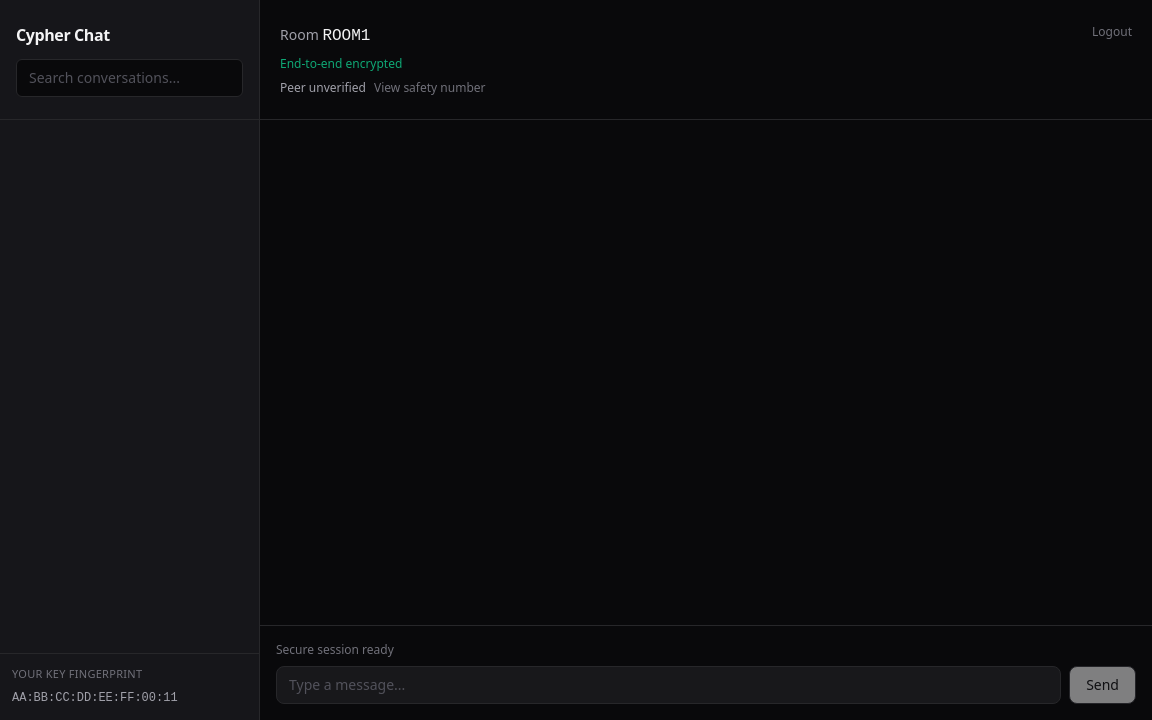
Test: ChatRoom integration › keeps accepted messages sent until a recipient delivery ack arrives
The width and height of the screenshot is (1152, 720).
Type "accepted only" into the field with placeholder "Type a message...".
click(669, 685); type("accepted only")  # box x1=276 y1=666 x2=1061 y2=704
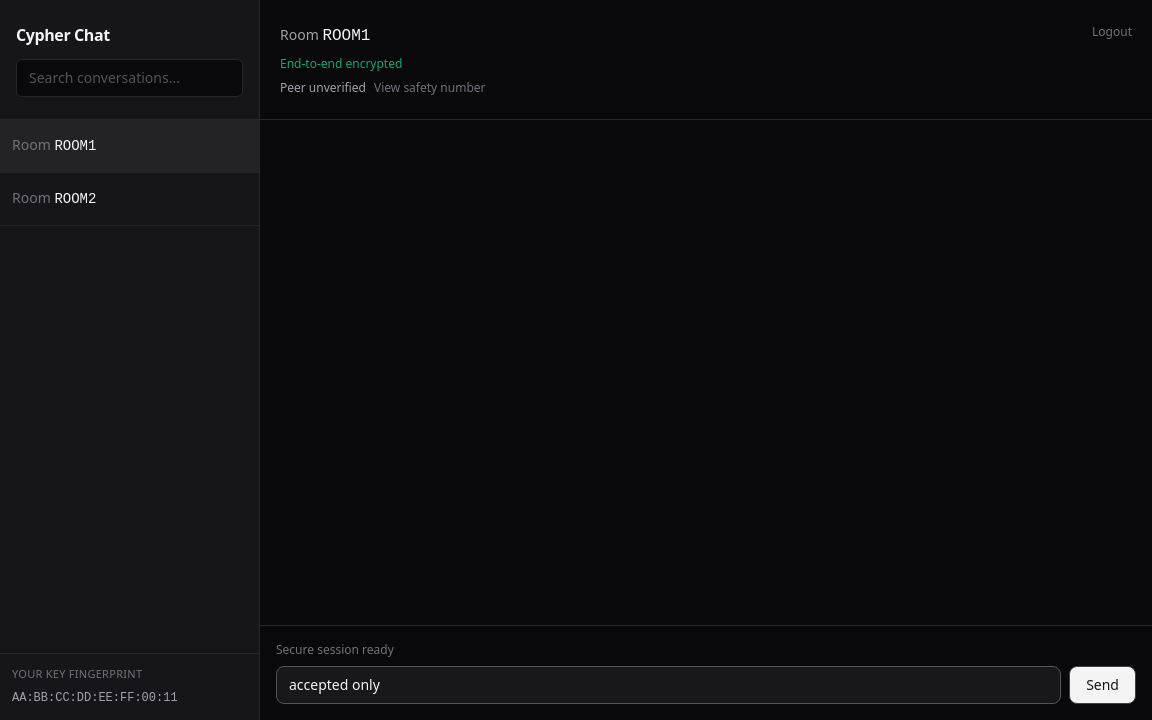
Click the button "Send".
click(1103, 685)  # box x1=1069 y1=666 x2=1136 y2=704
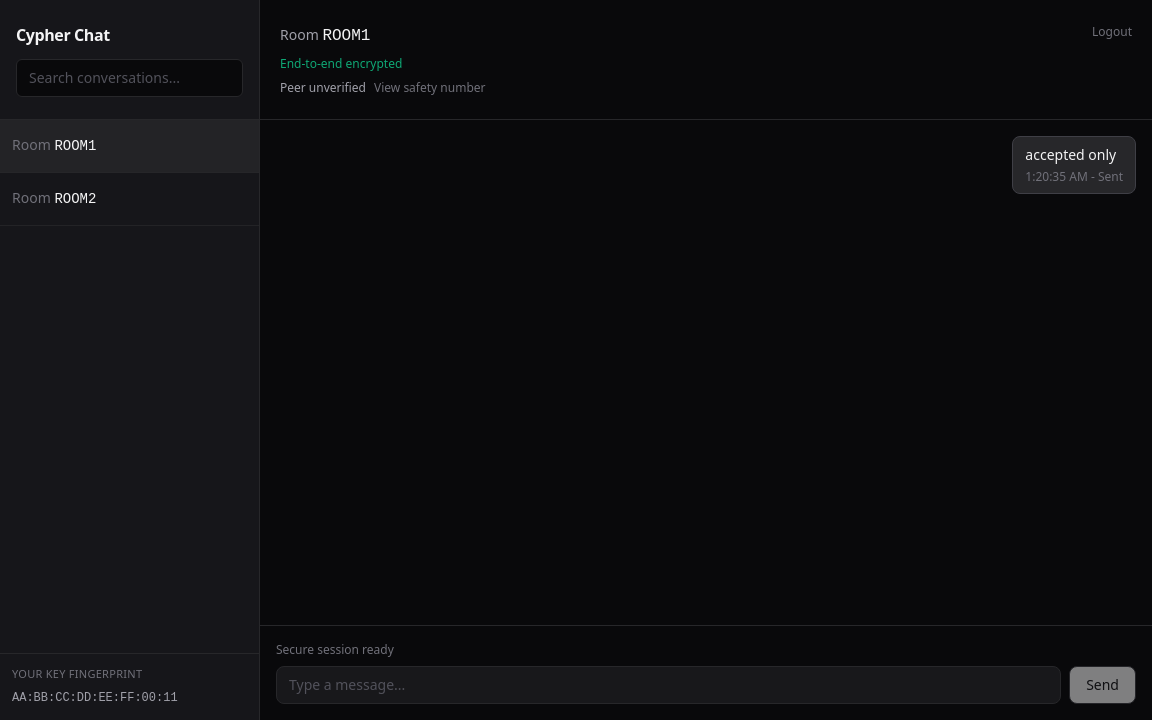
Expected: the text "1:20:35 AM - Sent" is shown, x1=1025 y1=169 x2=1123 y2=185
